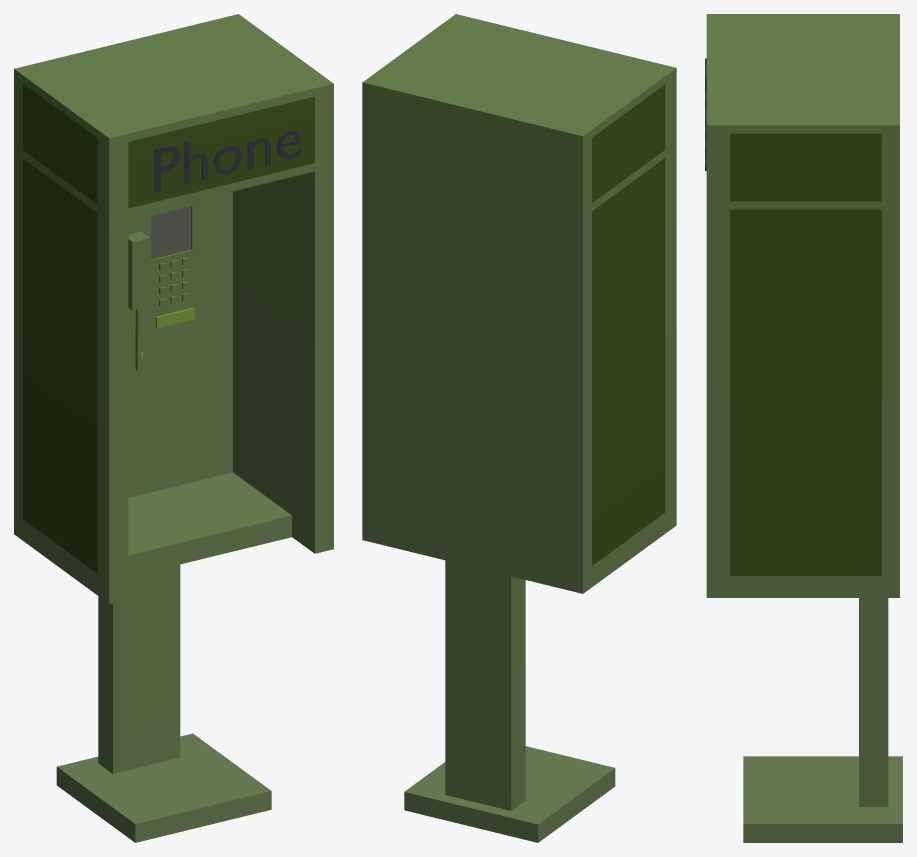
The model's file is PhoneBooth_01.fbx.
The picture shows the model from 3 angles, left to right: view 1: azimuth 30°, elevation 25°; view 2: azimuth 150°, elevation 25°; view 3: azimuth 270°, elevation 25°; orthographic projection. The views are drawn at different scales.
Visible parts, largest first — view 1: PhoneBooth_01; view 2: PhoneBooth_01; view 3: PhoneBooth_01.
Part boxes in pixels (left/top/right/bottom): PhoneBooth_01: left=14, top=14, right=333, bottom=842; PhoneBooth_01: left=362, top=14, right=676, bottom=842; PhoneBooth_01: left=705, top=14, right=902, bottom=842.
Bounding box in the file's own units: 0.645 × 2 × 0.4851.
